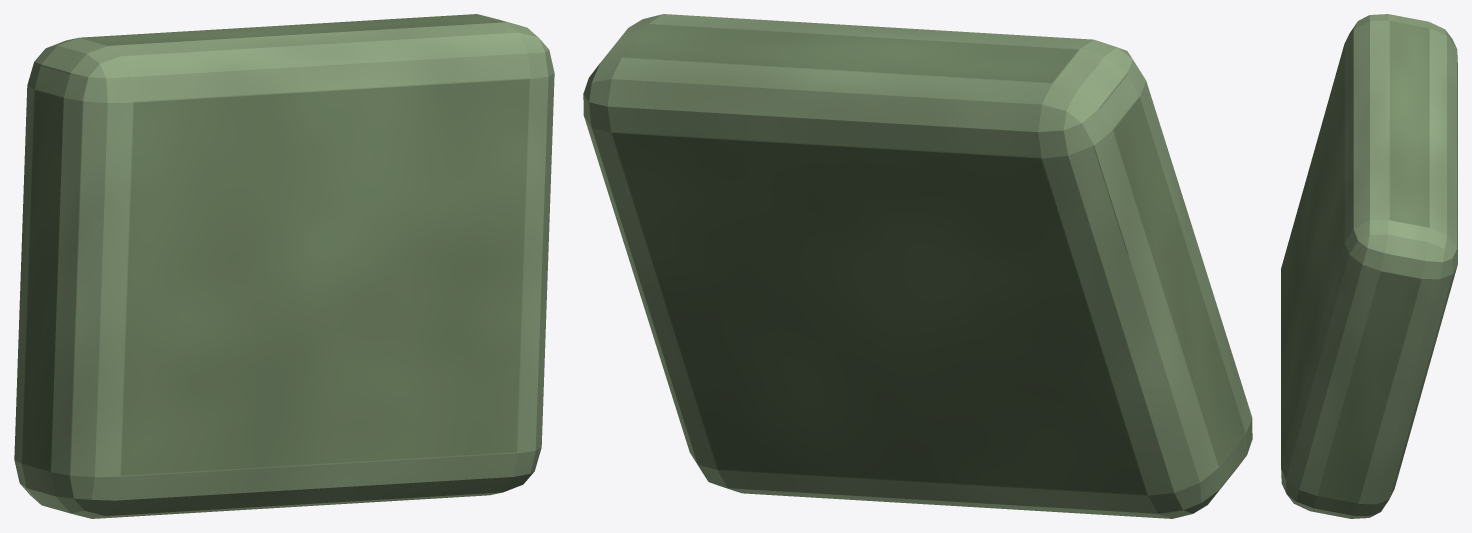
The model's file is 10_Back_Cushion_1.fbx.
3 renders of one model, left to right at view 1: azimuth 30°, elevation 25°; view 2: azimuth 150°, elevation 25°; view 3: azimuth 270°, elevation 25°, orthographic. The views are drawn at different scales.
Parts seen in each view (by area): view 1: 10_Back_Cushion_1; view 2: 10_Back_Cushion_1; view 3: 10_Back_Cushion_1.
Boxes of the visible parts, x1,y1,x2,y2 form: 10_Back_Cushion_1: [14, 14, 554, 518]; 10_Back_Cushion_1: [583, 14, 1252, 518]; 10_Back_Cushion_1: [1281, 14, 1457, 518].
Size of the model in its own units: 63.9 by 56.59 by 24.31.
Materials: 1 (1 with a texture image).
